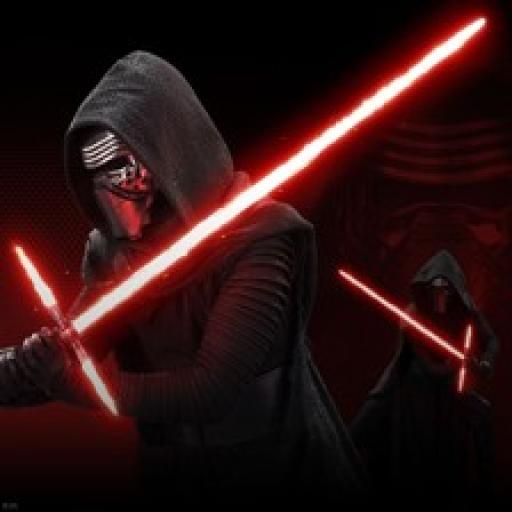lightsaber: (1, 15, 486, 408), (336, 270, 490, 392)
